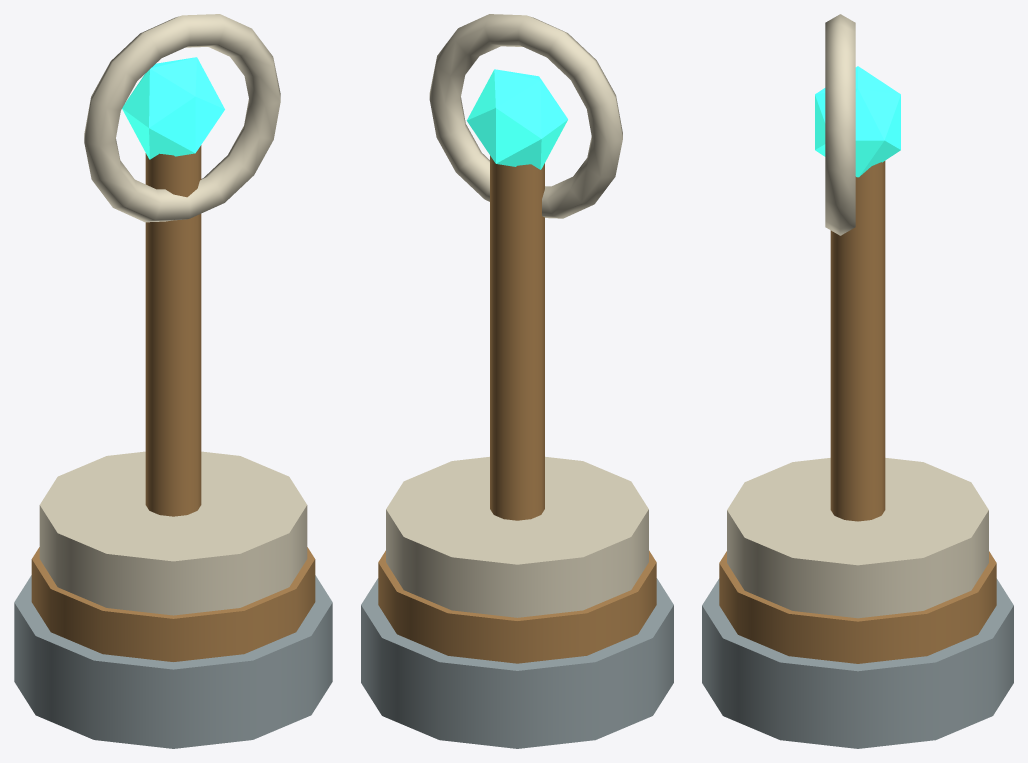
The model's file is sunfall-rift-moba-vision-ward-333f6959__22001.glb.
The picture shows the model from 3 angles, left to right: view 1: azimuth 30°, elevation 25°; view 2: azimuth 150°, elevation 25°; view 3: azimuth 270°, elevation 25°; orthographic projection. The views are drawn at different scales.
Visible parts, largest first — view 1: vision-ward; view 2: vision-ward; view 3: vision-ward.
Boxes of the visible parts, left/top/right/bottom form: vision-ward: left=14, top=14, right=332, bottom=748; vision-ward: left=361, top=14, right=673, bottom=748; vision-ward: left=702, top=14, right=1013, bottom=748.
Bounding box in the file's own units: 0.8 × 1.87 × 0.8.
